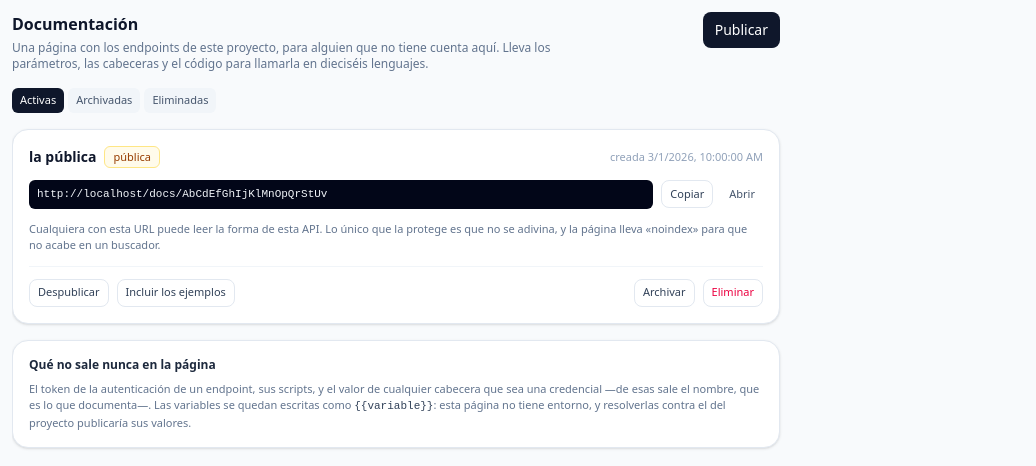
Test: los tres filtros de la documentación › archivar, desarchivar y el fallo de cualquiera de los dos
Click the button "Archivar": (664, 292) 634,278 -> 695,306
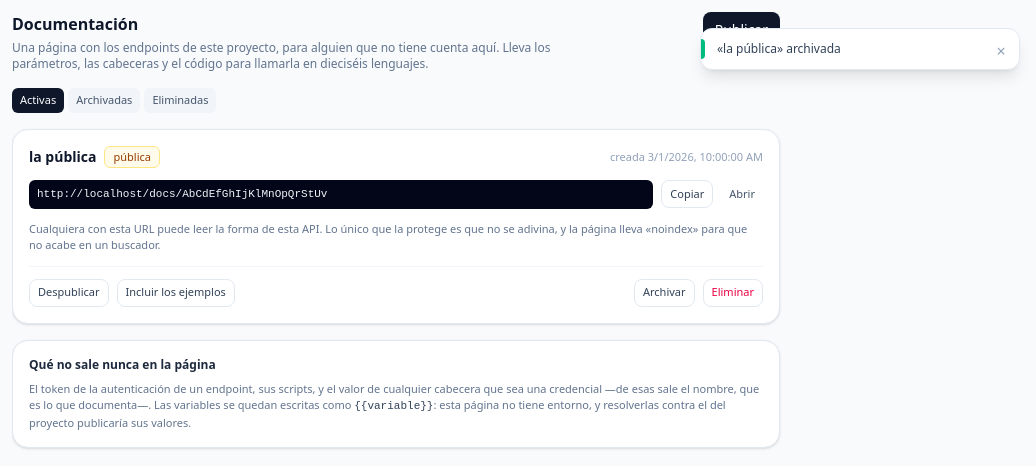
Now the text "«la pública» archivada" is shown, box 717,40 -> 841,57
Click the tab "Archivadas": (104, 100) 68,88 -> 140,112
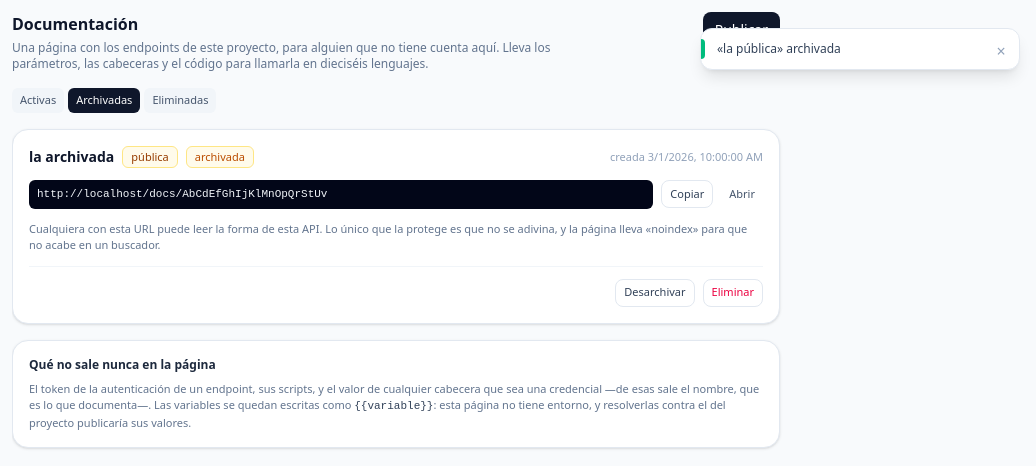
Click the button "Desarchivar": (655, 292) 615,278 -> 694,306
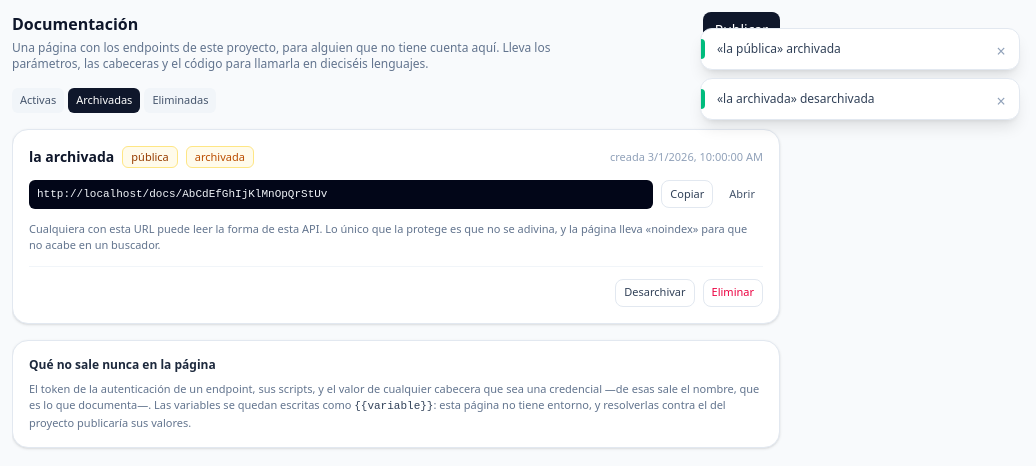
Now the text "«la archivada» desarchivada" is shown, box 717,90 -> 874,107
Click the button "Desarchivar": (655, 292) 615,278 -> 694,306
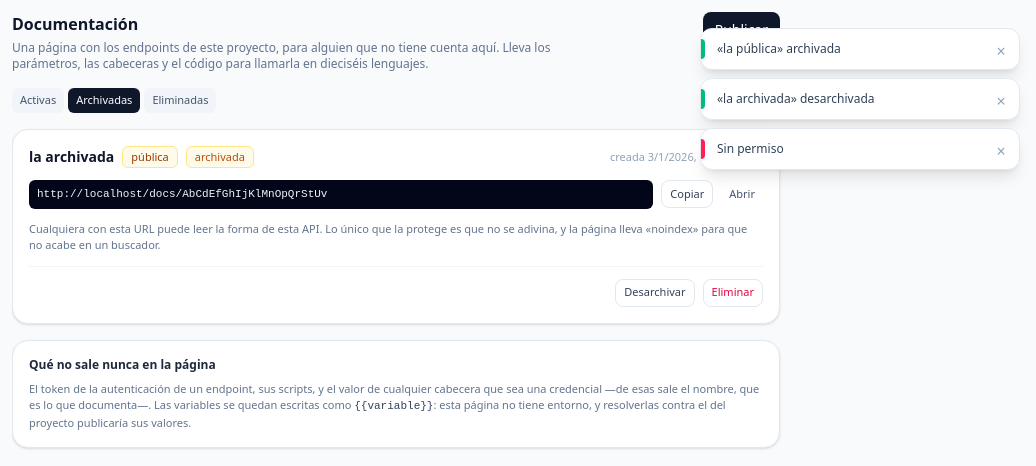
Now the text "Sin permiso" is shown, box 717,140 -> 784,157
